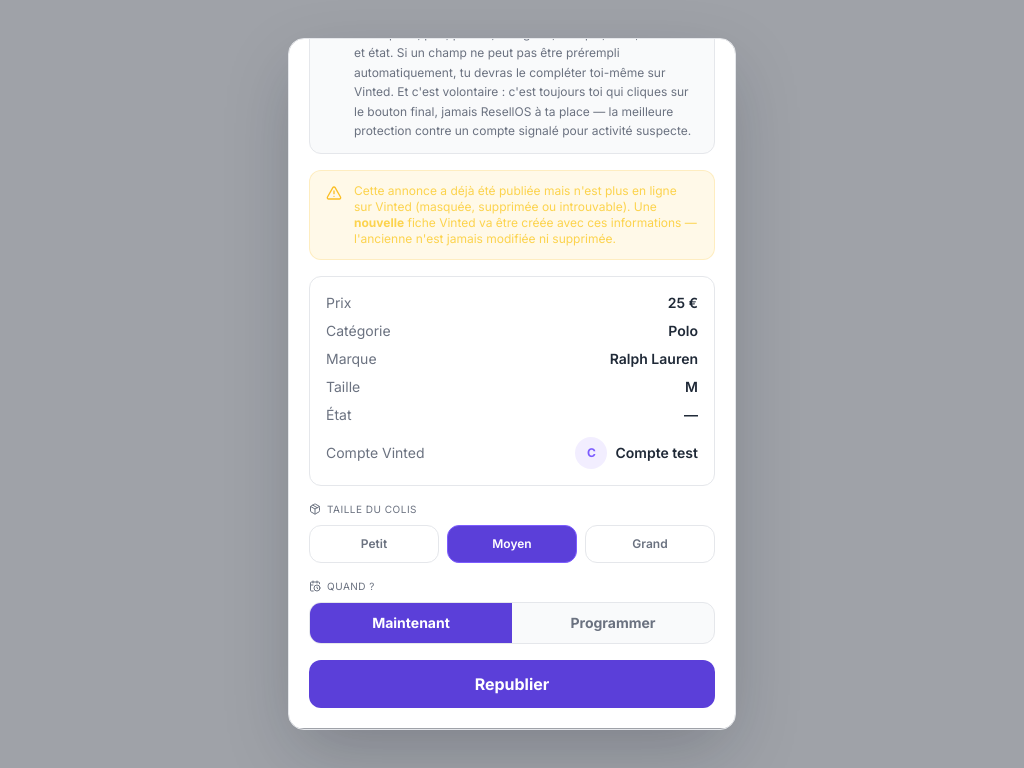
Test: PublishConfirmationModal -- programmation de republication › toggle vers "Programmer" affiche le calendrier/l'heure et masque le bouton Republier direct
(page scrolled)
Click the button "Programmer".
click(613, 623)  # box [512,603,714,643]
(page scrolled)
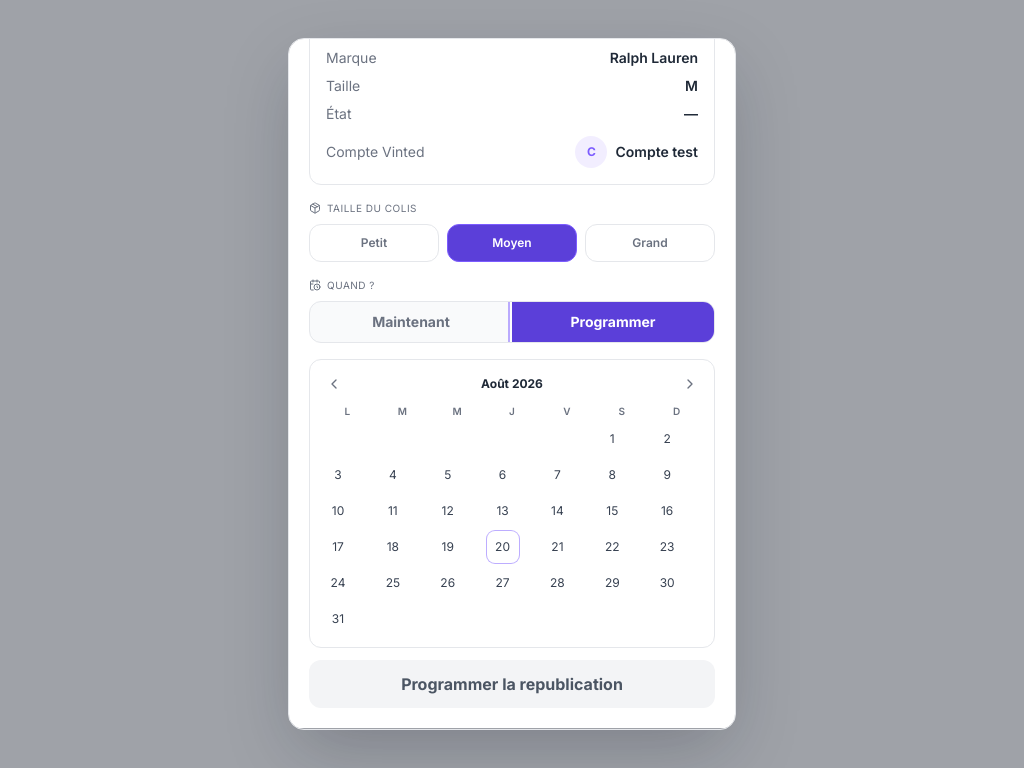
Expected: the button "Republier" is gone
Expected: the button "Programmer la republication" is shown, [309,660,715,708]
